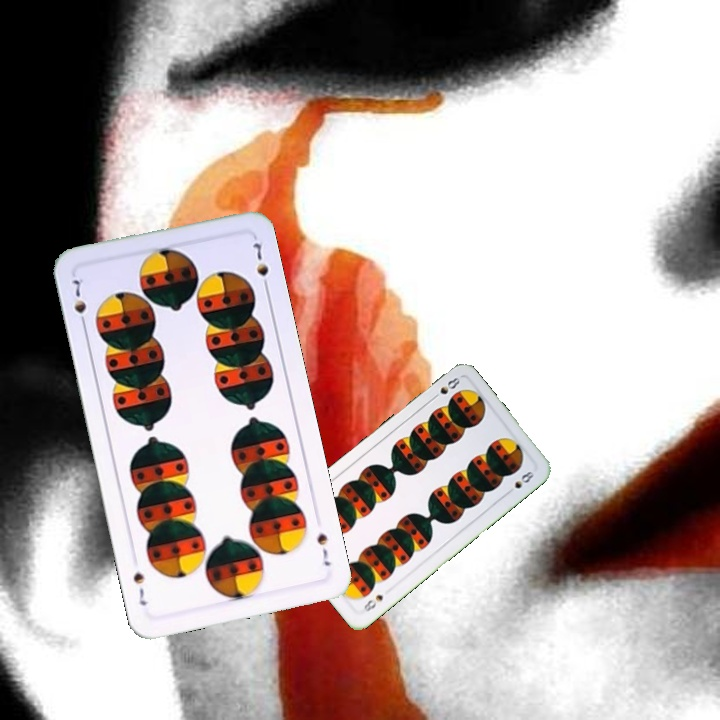S7: (69, 272, 89, 331), (313, 529, 333, 569)
S8: (427, 373, 463, 403), (360, 590, 386, 615)
